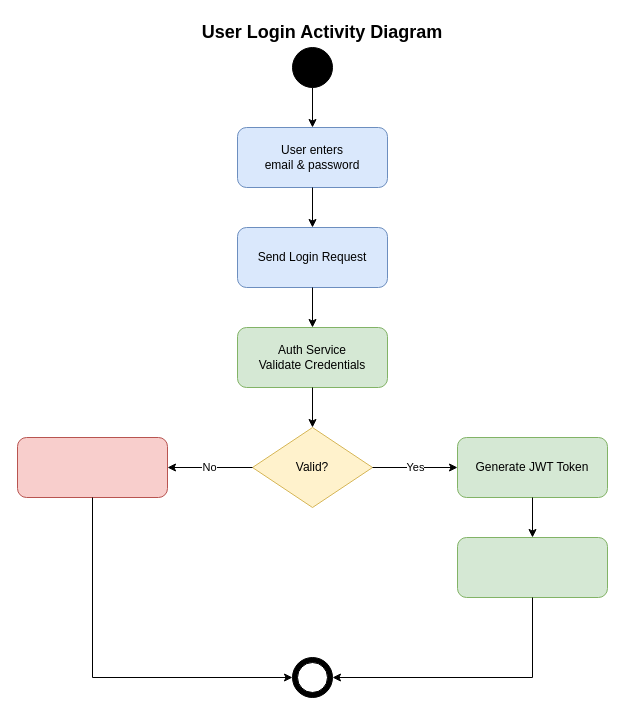
Some shapes in this 625 by 715 pixel diagram are drawn without their labels. The centre of each missing label's shape, as x and y in pixels:
Return Error Message: (92,467)
Return Token & User Info: (532,567)
